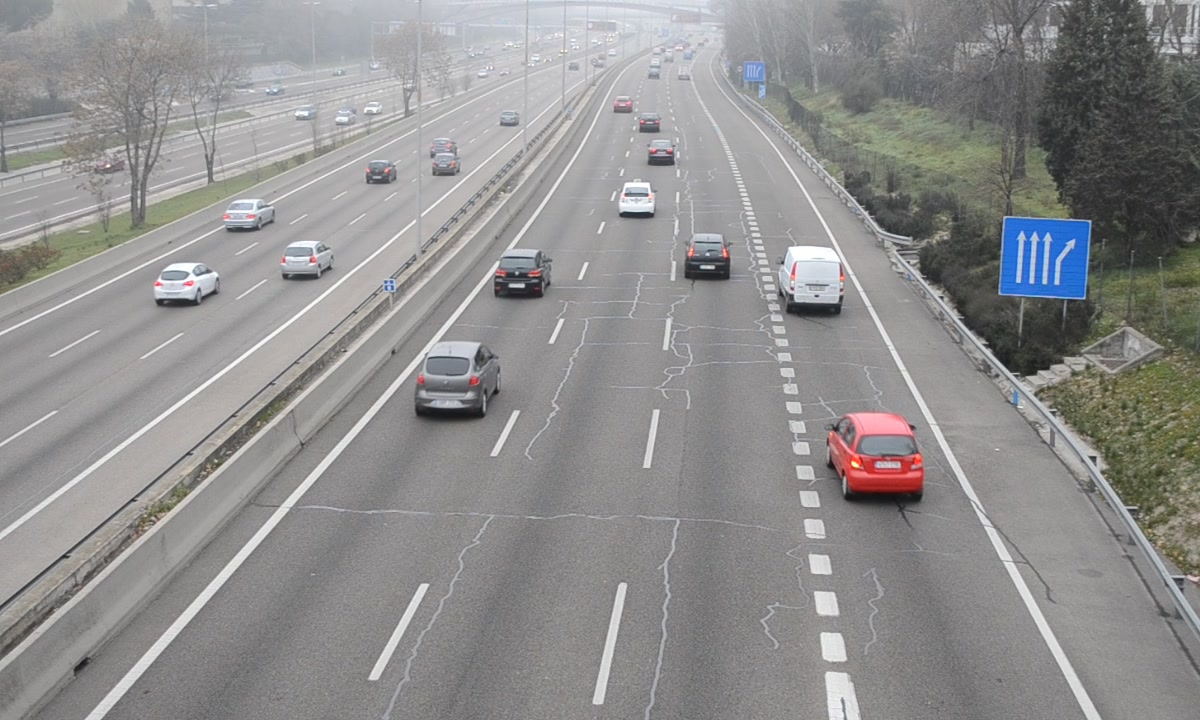car: (829, 411, 927, 493), (418, 342, 499, 412), (494, 249, 550, 292), (684, 232, 730, 277), (618, 180, 654, 215), (648, 139, 676, 165)
van: (782, 245, 845, 315)
